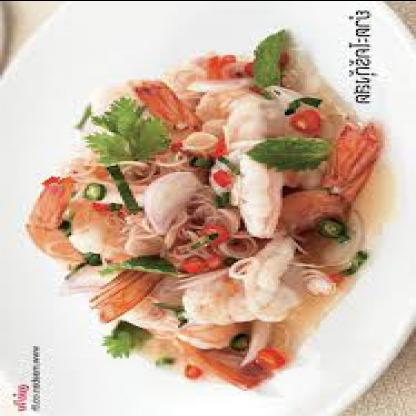Yum: (26, 29, 400, 393)
